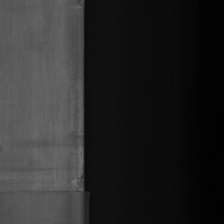welding_line: (1, 179, 93, 202)
